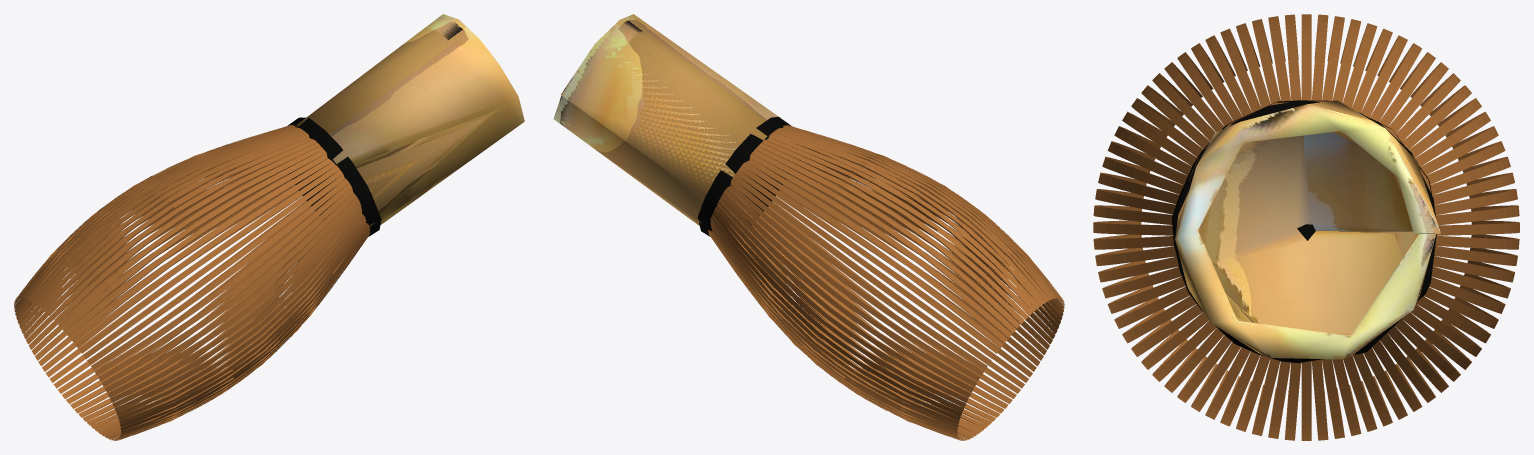
3 views of the same model, side by side, from view 1: azimuth 30°, elevation 25°; view 2: azimuth 150°, elevation 25°; view 3: azimuth 270°, elevation 25° (orthographic). The views are drawn at different scales.
Visible parts, largest first — view 1: bamboo_whisk__body; view 2: bamboo_whisk__body; view 3: bamboo_whisk__body.
Part boxes in pixels (bbox=[...]): bamboo_whisk__body: bbox=[14, 14, 524, 440]; bamboo_whisk__body: bbox=[553, 14, 1064, 440]; bamboo_whisk__body: bbox=[1093, 14, 1519, 440].
Bounding box in the file's own units: 0.1068 × 0.0707 × 0.0436.
3 materials, 1 textured.
